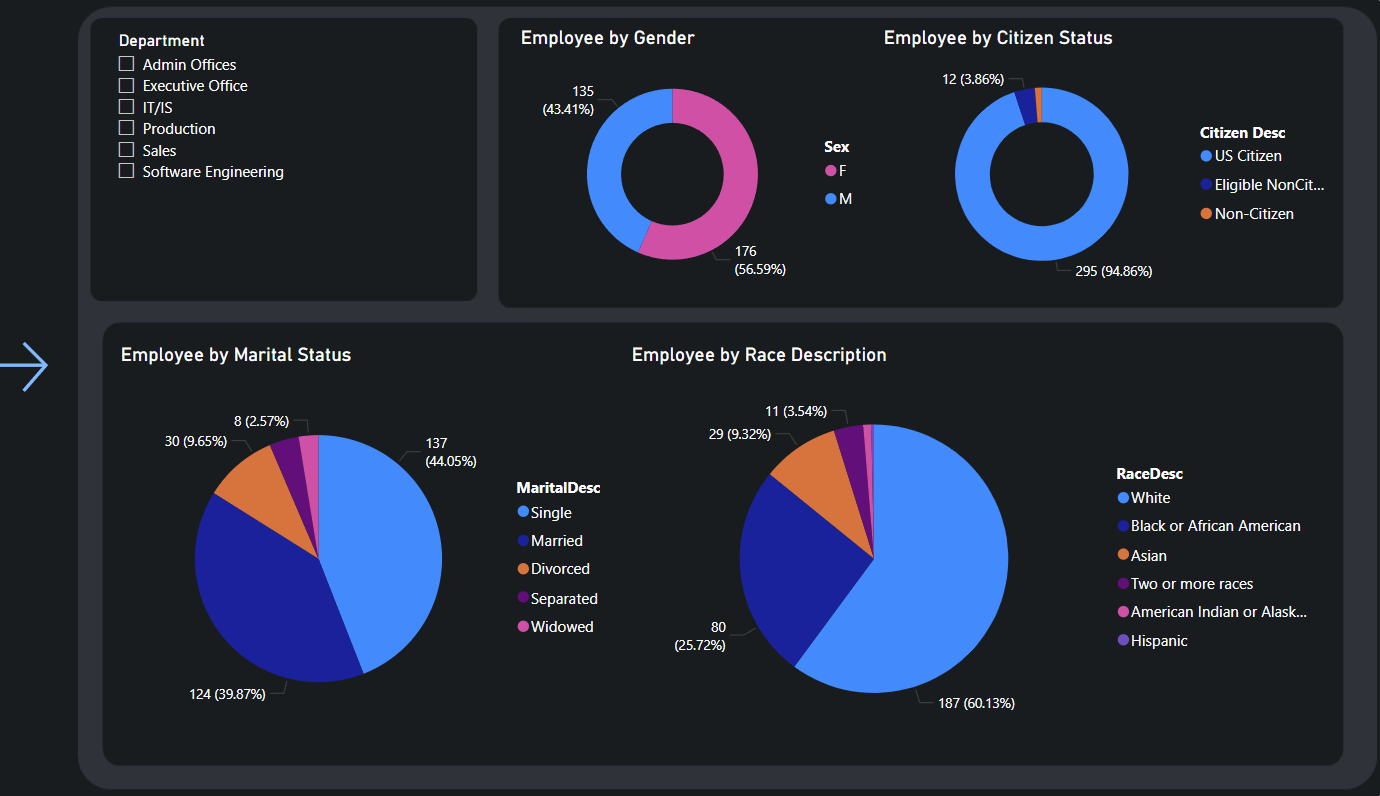

This screenshot's page, from the dashboard's own definition file:
{"tool":"powerbi","page":{"name":"Page 1","canvas":[1280,720],"ordinal":0},"visuals":[{"type":"donutChart","title":"Employee by Gender","fields":{"Y":["CountNonNull(HRDataset.EmpID)"],"Category":["HRDataset.Sex"]},"box":[502.9,28.3,322.2,243.8],"z":0},{"type":"pieChart","title":"Employee by Marital Status","fields":{"Y":["CountNonNull(HRDataset.EmpID)"],"Category":["HRDataset.MaritalDesc"]},"box":[148,309.1,452.8,363.5],"z":1000},{"type":"donutChart","title":"Employee by Citizen Status","fields":{"Y":["CountNonNull(HRDataset.EmpID)"],"Category":["HRDataset.CitizenDesc"]},"box":[824.6,28.4,411.4,243.8],"z":2000},{"type":"pieChart","title":"Employee by Race Description","fields":{"Y":["CountNonNull(HRDataset.EmpID)"],"Category":["HRDataset.RaceDesc"]},"box":[600.8,309.1,624.8,363.5],"z":3000},{"type":"slicer","fields":{"Values":["HRDataset.Department"]},"box":[138.3,28.4,316.6,226.1],"z":4000},{"type":"actionButton","box":[37,302.6,61,56.6],"z":5000}]}

Visuals, with their boxes in screenshot pixels (x1, y1, x2, y2), scaled from the page's 1280x720 canvas onto the 1380x796 screenshot:
"Employee by Gender" donutChart: 542, 31, 890, 301
"Employee by Marital Status" pieChart: 160, 342, 648, 744
"Employee by Citizen Status" donutChart: 889, 31, 1333, 301
"Employee by Race Description" pieChart: 648, 342, 1321, 744
slicer - HRDataset.Department: 149, 31, 490, 281
actionButton: 40, 335, 106, 397
